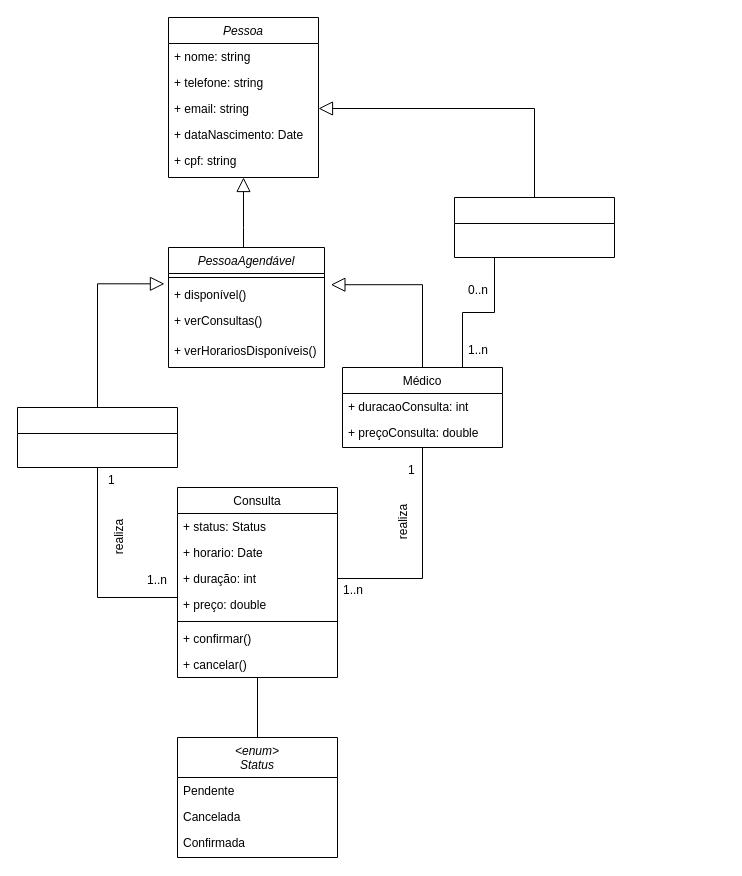
This 742x876 diagram has some shape labels left out. Here are the shapes that lost their labels. From the top down, the centre of each, then its label:
point 534,227: Secretária
point 97,437: Paciente
